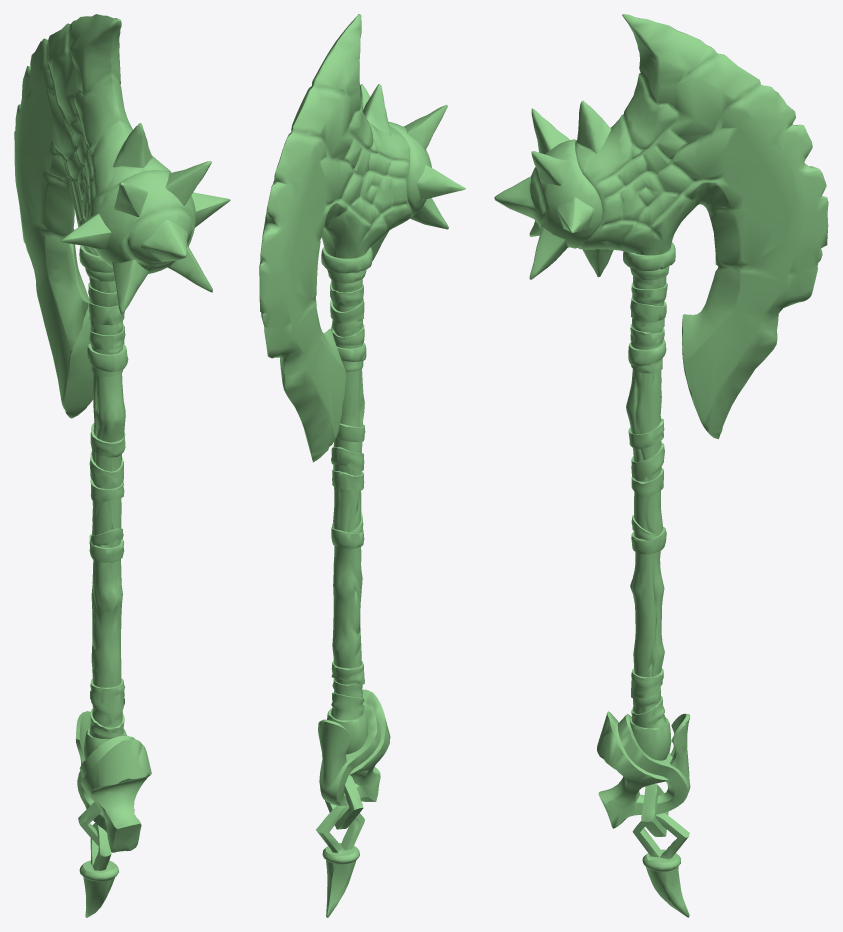
Rendered from full.fbx.
3 views of the same model, side by side, from view 1: azimuth 30°, elevation 25°; view 2: azimuth 150°, elevation 25°; view 3: azimuth 270°, elevation 25° (orthographic). The views are drawn at different scales.
Parts seen in each view (by area): view 1: Group730.024; view 2: Group730.024; view 3: Group730.024.
Part boxes in pixels (bbox=[...]): Group730.024: bbox=[14, 14, 230, 917]; Group730.024: bbox=[259, 14, 465, 917]; Group730.024: bbox=[494, 14, 828, 917].
Size of the model in its own units: 427 by 2221 by 745.
